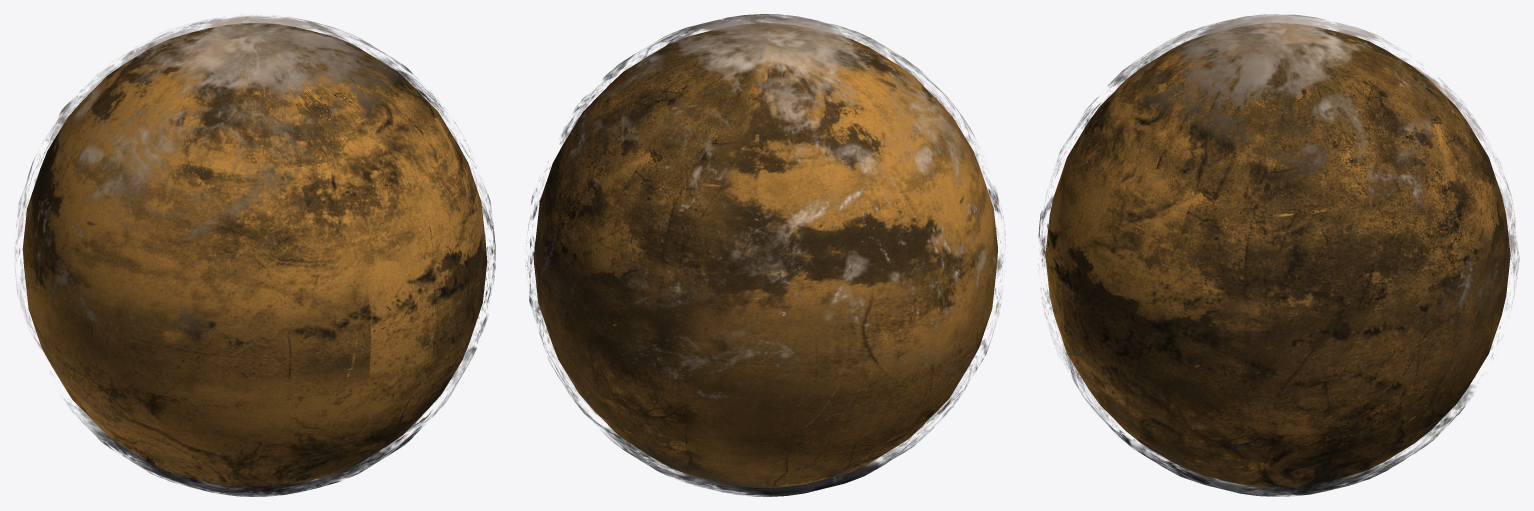
Rendered from planet.glb.
3 renders of one model, left to right at view 1: azimuth 30°, elevation 25°; view 2: azimuth 150°, elevation 25°; view 3: azimuth 270°, elevation 25°, orthographic.
Visible parts, largest first — view 1: Planet, Mesh_1; view 2: Planet, Mesh_1; view 3: Planet, Mesh_1.
Part boxes in pixels (x1,y1,x2,y2): Planet: [22, 23, 487, 487]; Mesh_1: [15, 15, 495, 496]; Planet: [534, 23, 997, 487]; Mesh_1: [525, 14, 1005, 496]; Planet: [1045, 23, 1510, 487]; Mesh_1: [1038, 14, 1519, 496].
Size of the model in its own units: 38.25 by 38.26 by 38.25.
Materials: 2 (2 with a texture image).
